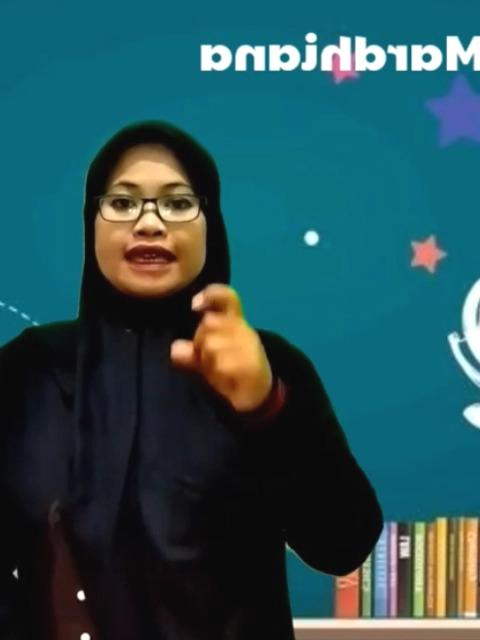X: (162, 286, 272, 402)
